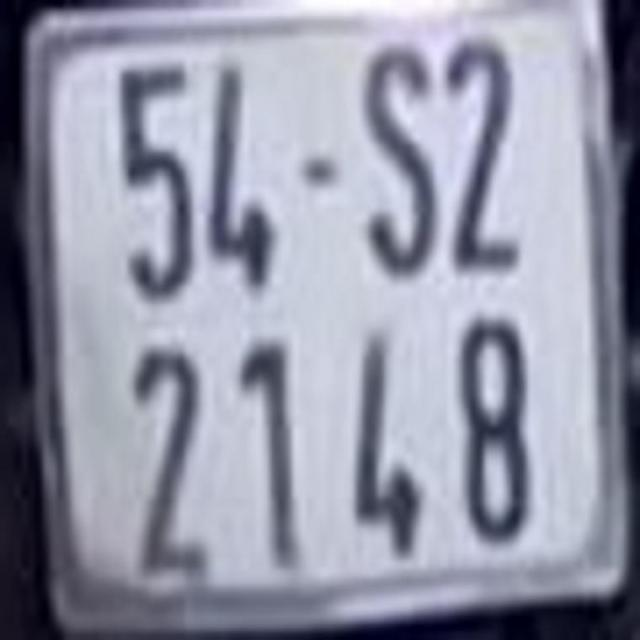1: (228, 327, 312, 571)
2: (125, 342, 215, 580), (443, 32, 525, 279)
4: (346, 321, 431, 561), (205, 57, 282, 290)
5: (112, 55, 199, 300)
8: (451, 310, 533, 548)
S: (354, 38, 438, 284)
